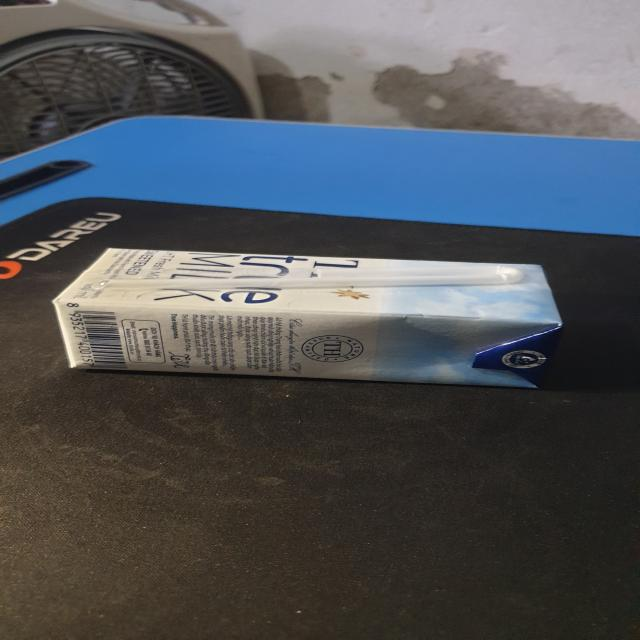TH: (55, 245, 565, 385)
